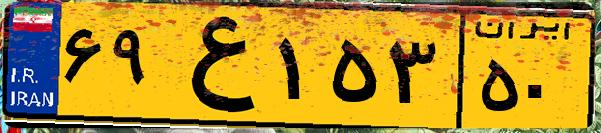0: (525, 38, 570, 115)
1: (270, 28, 330, 110)
3: (385, 28, 445, 110)
5: (330, 28, 385, 110), (475, 38, 525, 113)
6: (57, 26, 110, 100)
9: (110, 28, 158, 98)
ع: (158, 12, 270, 120)
